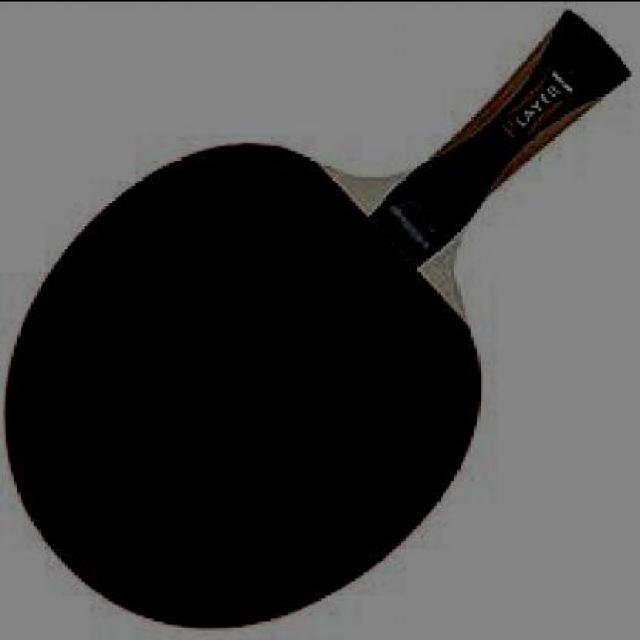table_tennis_racket: (3, 12, 631, 632)
